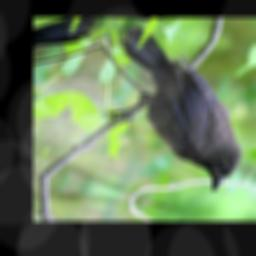Crow: (60, 23, 256, 194)
